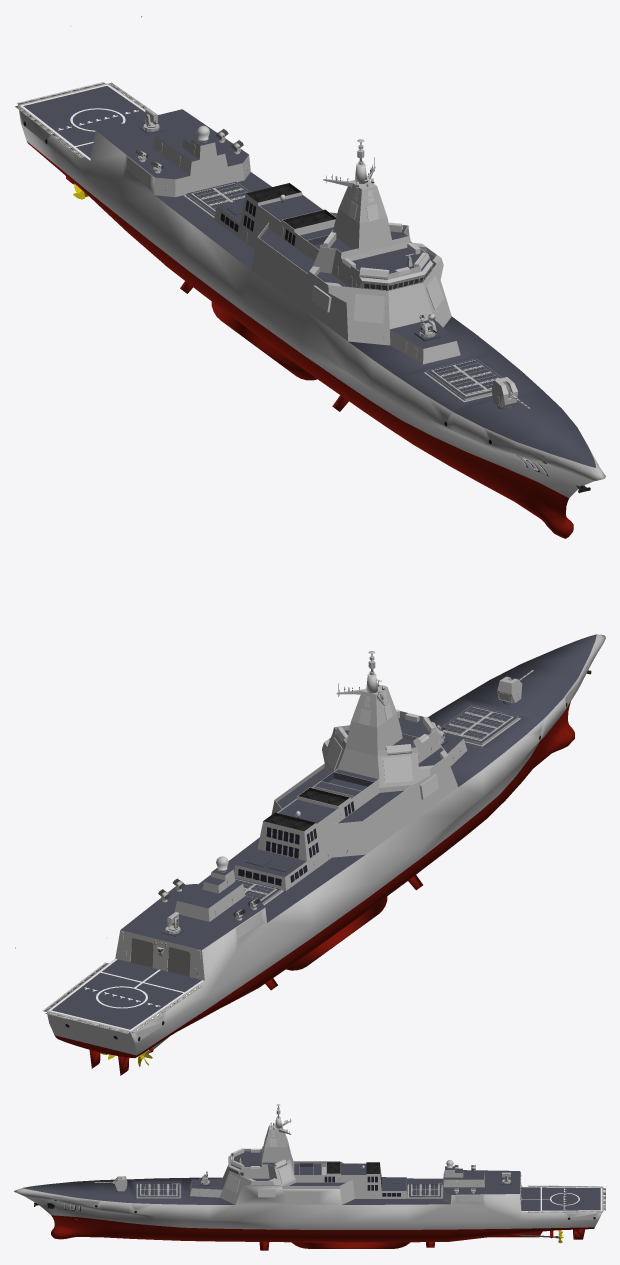
The model's file is ship.glb.
3 renders of one model, top to bottom at view 1: azimuth 30°, elevation 25°; view 2: azimuth 150°, elevation 25°; view 3: azimuth 270°, elevation 25°, orthographic. The views are drawn at different scales.
Visible parts, largest first — view 1: G-Object.004_15, G-Object.065_21, G-Object_14, G-Object.067_23, _G-Object.068 (Loose Mesh)_374; view 2: G-Object.004_15, G-Object.065_21, G-Object.067_23, G-Object_14, _G-Object.068 (Loose Mesh)_374; view 3: G-Object.004_15, G-Object.065_21, G-Object.067_23, G-Object_14, _G-Object.068 (Loose Mesh)_374, _G-Object.007 (Loose Mesh)_90.
Part boxes in pixels (x1=…): G-Object.004_15: x1=19, y1=83, x2=605, y2=538; G-Object.065_21: x1=180, y1=281, x2=348, y2=411; G-Object_14: x1=322, y1=163, x2=429, y2=278; G-Object.067_23: x1=256, y1=212, x2=429, y2=280; _G-Object.068 (Loose Mesh)_374: x1=426, y1=358, x2=502, y2=400; G-Object.004_15: x1=46, y1=634, x2=605, y2=1057; G-Object.065_21: x1=265, y1=875, x2=422, y2=990; G-Object.067_23: x1=273, y1=710, x2=437, y2=829; G-Object_14: x1=335, y1=673, x2=435, y2=754; _G-Object.068 (Loose Mesh)_374: x1=440, y1=705, x2=518, y2=745; G-Object.004_15: x1=14, y1=1120, x2=603, y2=1242; G-Object.065_21: x1=259, y1=1242, x2=434, y2=1250; G-Object.067_23: x1=230, y1=1146, x2=353, y2=1188; G-Object_14: x1=230, y1=1117, x2=286, y2=1168; _G-Object.068 (Loose Mesh)_374: x1=137, y1=1183, x2=179, y2=1197; _G-Object.007 (Loose Mesh)_90: x1=408, y1=1183, x2=441, y2=1198.
Size of the model in its own units: 19.62 by 33.65 by 133.
Materials: 20 (1 with a texture image).
